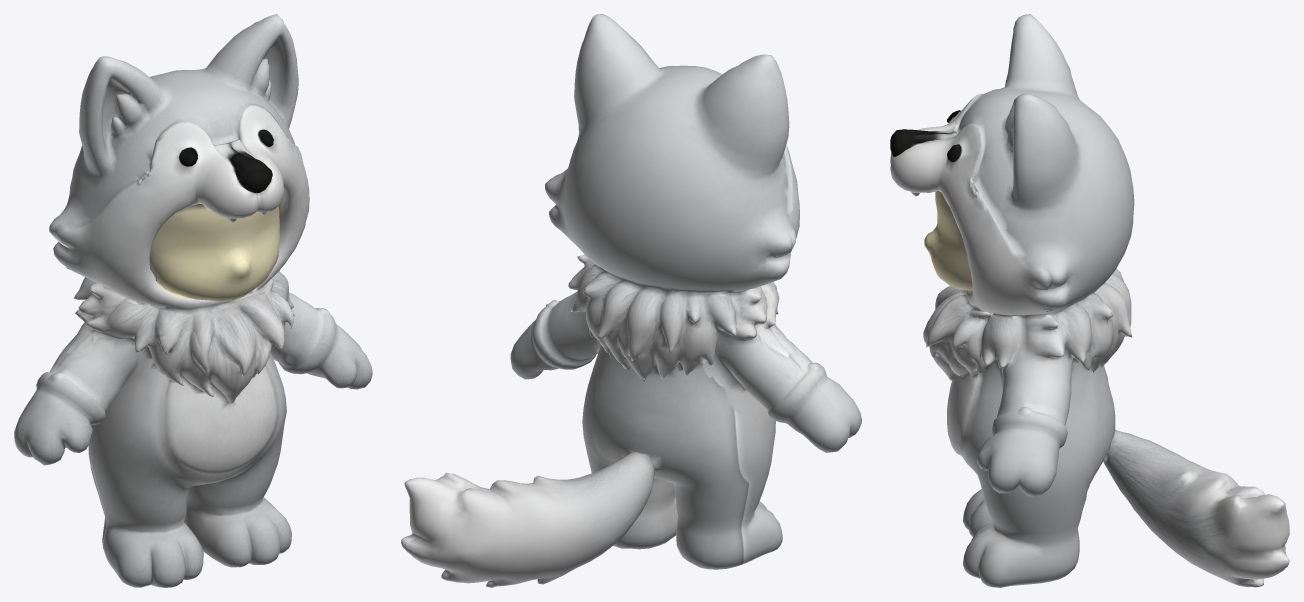
File: wolf.glb
3 renders of one model, left to right at view 1: azimuth 30°, elevation 25°; view 2: azimuth 150°, elevation 25°; view 3: azimuth 270°, elevation 25°, orthographic. The views are drawn at different scales.
Visible parts, largest first — view 1: tripo_node_9ed60492-5430-423e-9e07-86bd8e8e21f7; view 2: tripo_node_9ed60492-5430-423e-9e07-86bd8e8e21f7; view 3: tripo_node_9ed60492-5430-423e-9e07-86bd8e8e21f7.
Part boxes in pixels (box(x1,y1,x2,y2)): tripo_node_9ed60492-5430-423e-9e07-86bd8e8e21f7: box(14, 14, 372, 587); tripo_node_9ed60492-5430-423e-9e07-86bd8e8e21f7: box(401, 14, 861, 587); tripo_node_9ed60492-5430-423e-9e07-86bd8e8e21f7: box(890, 14, 1289, 587).
Size of the model in its own units: 0.6714 by 0.9775 by 0.7135.
1 material, 1 textured.
